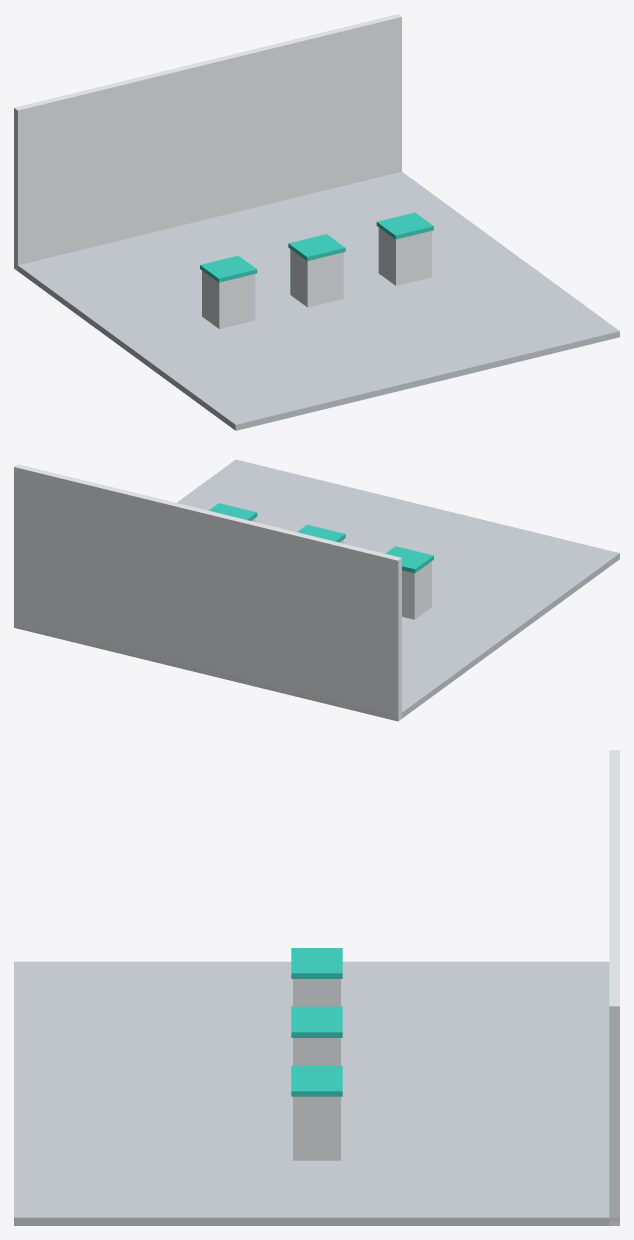
3 views of the same model, one above another, from view 1: azimuth 30°, elevation 25°; view 2: azimuth 150°, elevation 25°; view 3: azimuth 270°, elevation 25° (orthographic). The views are drawn at different scales.
Parts seen in each view (by area): view 1: Exhibition Booth Concept; view 2: Exhibition Booth Concept; view 3: Exhibition Booth Concept.
Boxes of the visible parts, x1,y1,x2,y2 form: Exhibition Booth Concept: (14, 14, 619, 430); Exhibition Booth Concept: (14, 459, 619, 721); Exhibition Booth Concept: (14, 750, 619, 1225).
Size of the model in its own units: 8 by 3.2 by 8.
